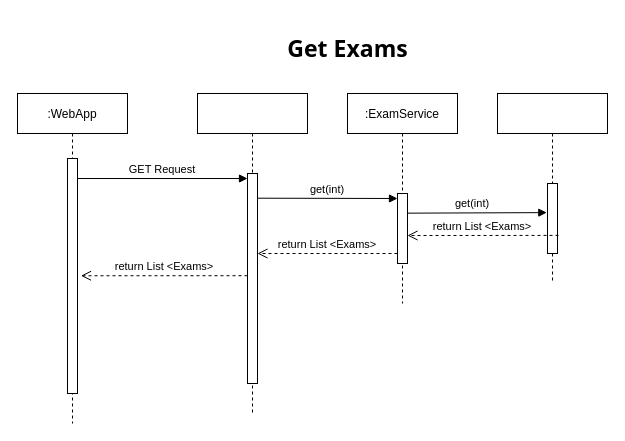
Some shapes in this 625 by 441 pixel diagram are drawn without their labels. The box of each missing label's shape, as (x1, y1, x2, y2) in pixels:
:ExamController: (196, 92, 308, 414)
:ExamInventory: (496, 92, 608, 284)
